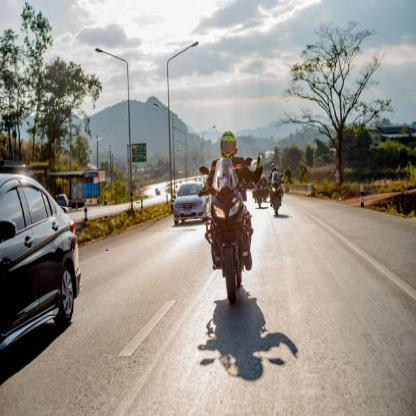Motorcycle: (200, 152, 257, 307)
